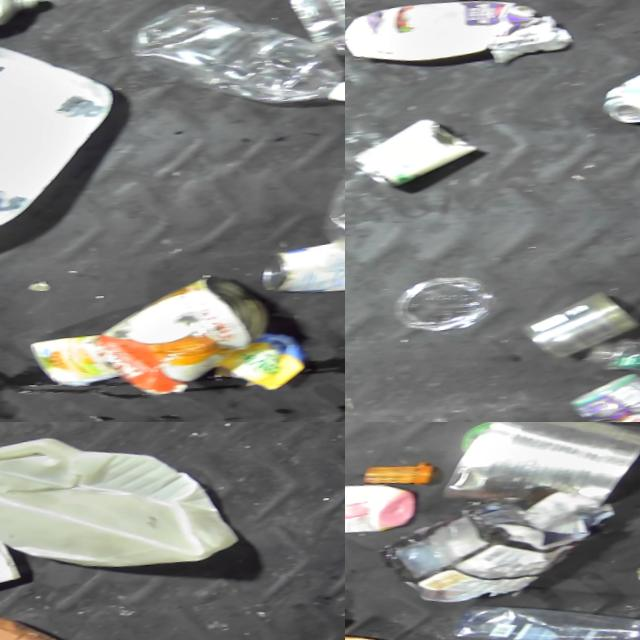can: (347, 117, 492, 199), (535, 291, 640, 368), (265, 243, 345, 311), (590, 71, 640, 143), (575, 376, 640, 422)
milk_jug: (0, 422, 263, 596), (345, 0, 543, 78), (0, 317, 22, 422)
non_white_jug: (0, 596, 142, 640)
plastic_bottle: (127, 0, 345, 128), (466, 603, 640, 640), (277, 0, 345, 73), (591, 331, 640, 422)
